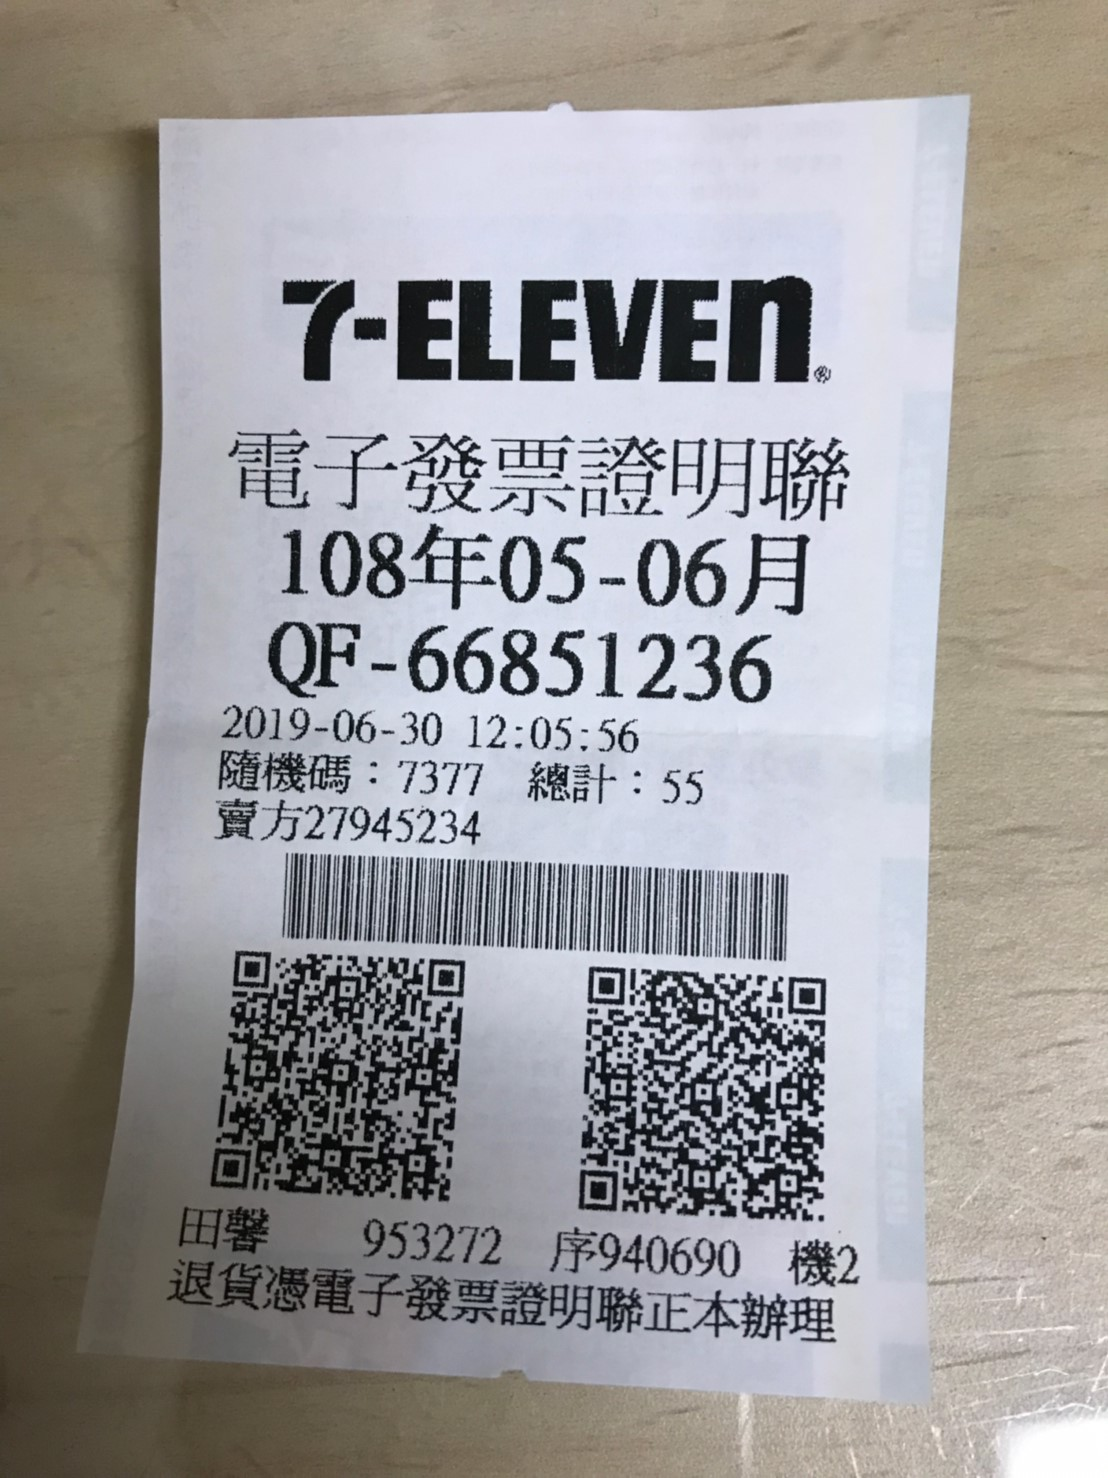Date_New: (277, 523, 812, 620)
Number_New: (405, 620, 777, 708)
